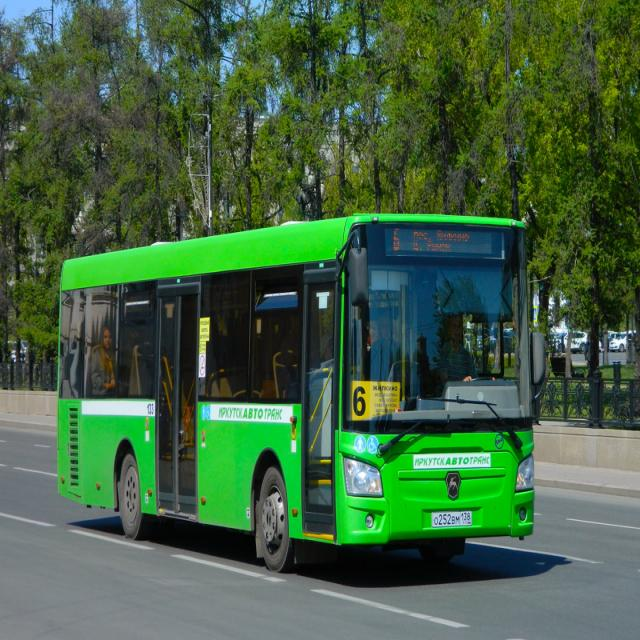number-of-bus: (353, 383, 368, 419)
